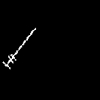treble_crochet: (3, 28, 35, 68)
